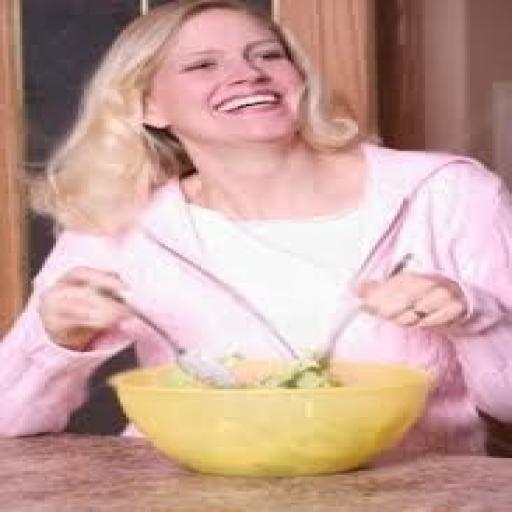laughing: (3, 2, 506, 454)
